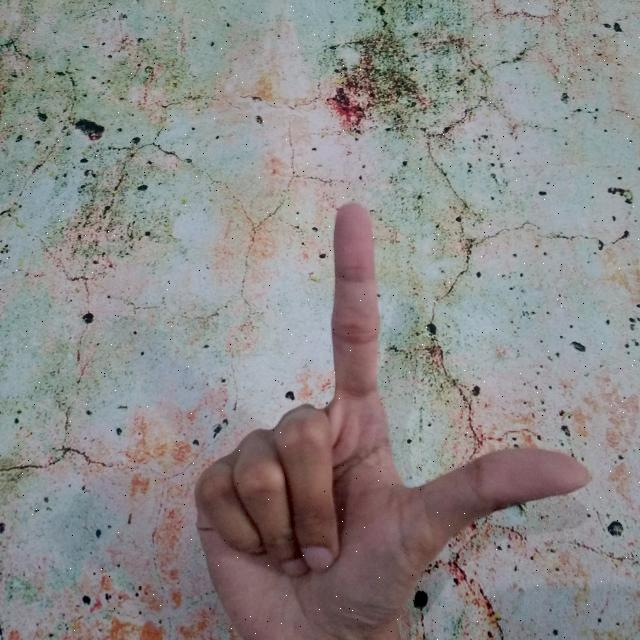L: (193, 196, 598, 640)
